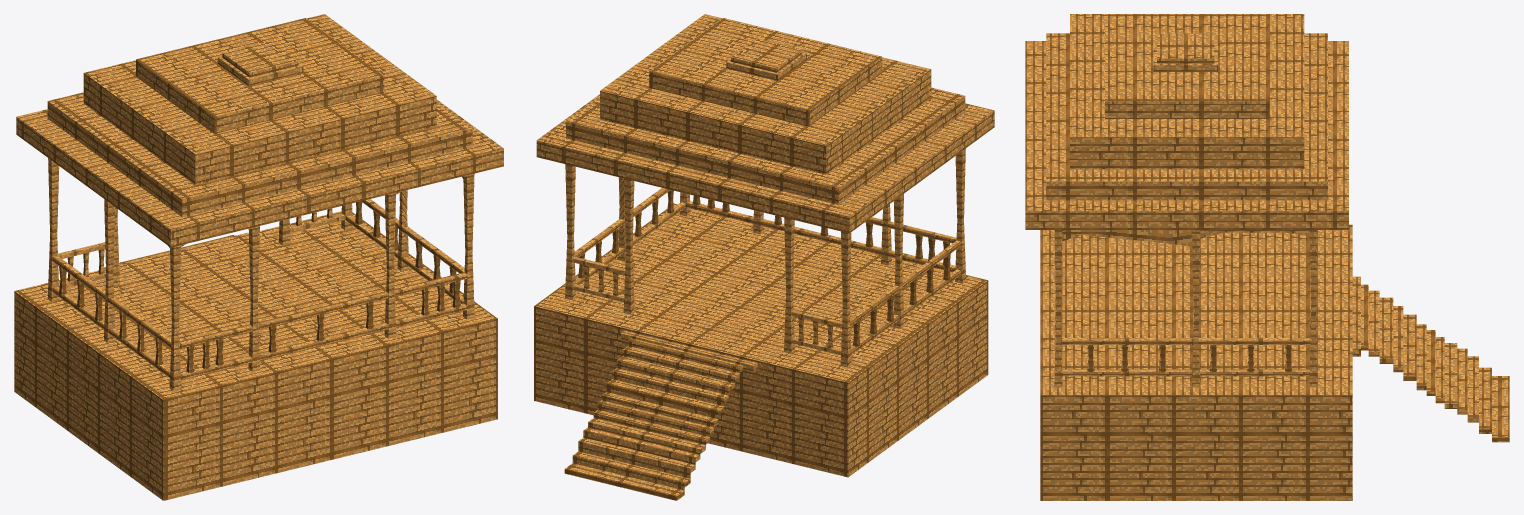
File: BGN_GAZEBO.fbx
3 views of the same model, side by side, from view 1: azimuth 30°, elevation 25°; view 2: azimuth 150°, elevation 25°; view 3: azimuth 270°, elevation 25° (orthographic). The views are drawn at different scales.
Parts seen in each view (by area): view 1: BGN_GAZEBO; view 2: BGN_GAZEBO; view 3: BGN_GAZEBO.
Part boxes in pixels (x1,y1,x2,y2): BGN_GAZEBO: (14, 14, 503, 500); BGN_GAZEBO: (534, 14, 994, 500); BGN_GAZEBO: (1025, 14, 1509, 500).
Size of the model in its own units: 617 by 609 by 724.
Materials: 1 (1 with a texture image).
